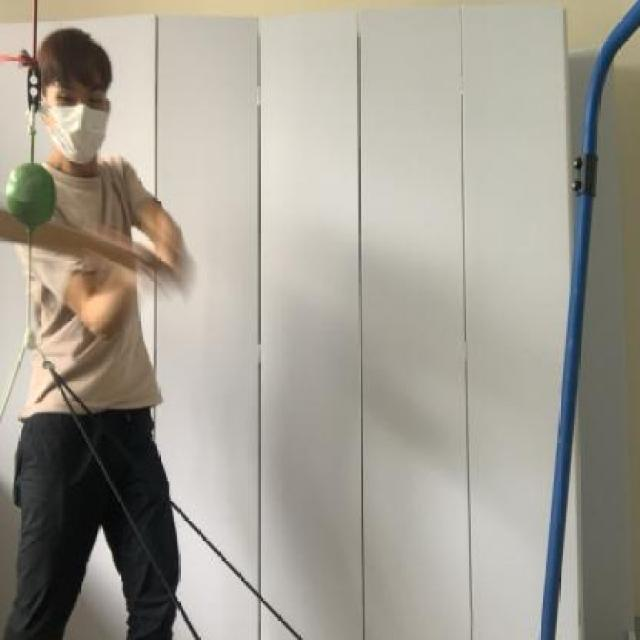baseball: (5, 160, 60, 228)
